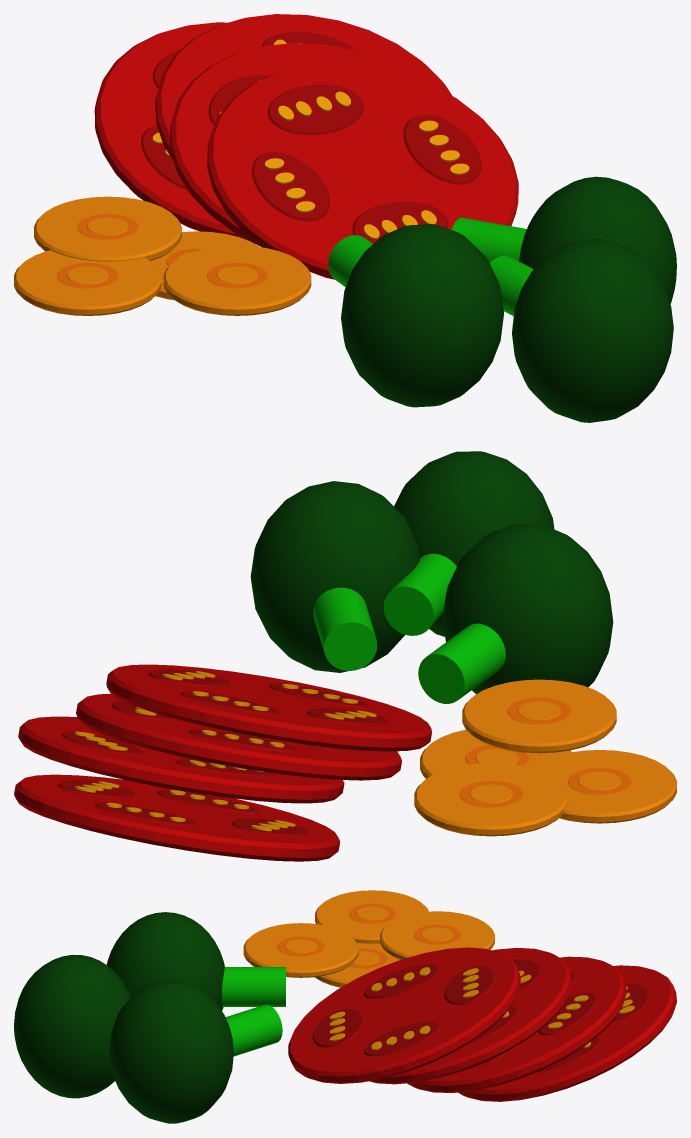
File: choppedVegetables.fbx
3 renders of one model, top to bottom at view 1: azimuth 30°, elevation 25°; view 2: azimuth 150°, elevation 25°; view 3: azimuth 270°, elevation 25°, orthographic. The views are drawn at different scales.
Parts seen in each view (by area): view 1: pCylinder2 (×4), pSphere1 (×3), pCylinder19 (×4), pCylinder5 (×4), pCylinder22 (×3), pCylinder3, pCylinder4, pCylinder20 (×3), pCylinder21 (×3), pCylinder7; view 2: pSphere1 (×3), pCylinder2 (×4), pCylinder19 (×4), pCylinder22 (×3), pCylinder5 (×4), pCylinder20 (×3), pCylinder3 (×3), pCylinder21 (×3), pCylinder4 (×2), pCylinder7 (×2); view 3: pCylinder2 (×4), pSphere1 (×3), pCylinder19 (×4), pCylinder22 (×2), pCylinder5 (×3), pCylinder4 (×3), pCylinder7 (×2), pCylinder20 (×3), pCylinder3, pCylinder21 (×3).
Part boxes in pixels (left/top/right/bottom): pCylinder2 (×4): left=94, top=14, right=518, bottom=279; pSphere1 (×3): left=341, top=176, right=676, bottom=422; pCylinder19 (×4): left=14, top=196, right=311, bottom=315; pCylinder5 (×4): left=141, top=31, right=363, bottom=190; pCylinder22 (×3): left=328, top=217, right=533, bottom=315; pCylinder3: left=252, top=152, right=329, bottom=221; pCylinder4: left=403, top=115, right=481, bottom=184; pCylinder20 (×3): left=57, top=214, right=267, bottom=288; pCylinder21 (×3): left=67, top=217, right=258, bottom=284; pCylinder7: left=352, top=201, right=448, bottom=243; pSphere1 (×3): left=250, top=451, right=613, bottom=694; pCylinder2 (×4): left=14, top=664, right=431, bottom=861; pCylinder19 (×4): left=414, top=679, right=676, bottom=836; pCylinder22 (×3): left=313, top=553, right=505, bottom=703; pCylinder5 (×4): left=61, top=690, right=308, bottom=836; pCylinder20 (×3): left=459, top=697, right=631, bottom=807; pCylinder3 (×3): left=157, top=708, right=388, bottom=814; pCylinder21 (×3): left=469, top=701, right=621, bottom=803; pCylinder4 (×2): left=94, top=669, right=229, bottom=826; pCylinder7 (×2): left=58, top=683, right=369, bottom=798; pCylinder2 (×4): left=288, top=947, right=676, bottom=1101; pSphere1 (×3): left=14, top=912, right=233, bottom=1123; pCylinder19 (×4): left=243, top=890, right=494, bottom=987; pCylinder22 (×2): left=221, top=967, right=285, bottom=1056; pCylinder5 (×3): left=444, top=959, right=597, bottom=1035; pCylinder4 (×3): left=364, top=983, right=649, bottom=1056; pCylinder7 (×2): left=312, top=1009, right=600, bottom=1072; pCylinder20 (×3): left=277, top=903, right=460, bottom=956; pCylinder3: left=364, top=964, right=440, bottom=998; pCylinder21 (×3): left=285, top=906, right=453, bottom=953.
Bounding box in the file's own units: 3.77 × 1.2 × 5.4.
